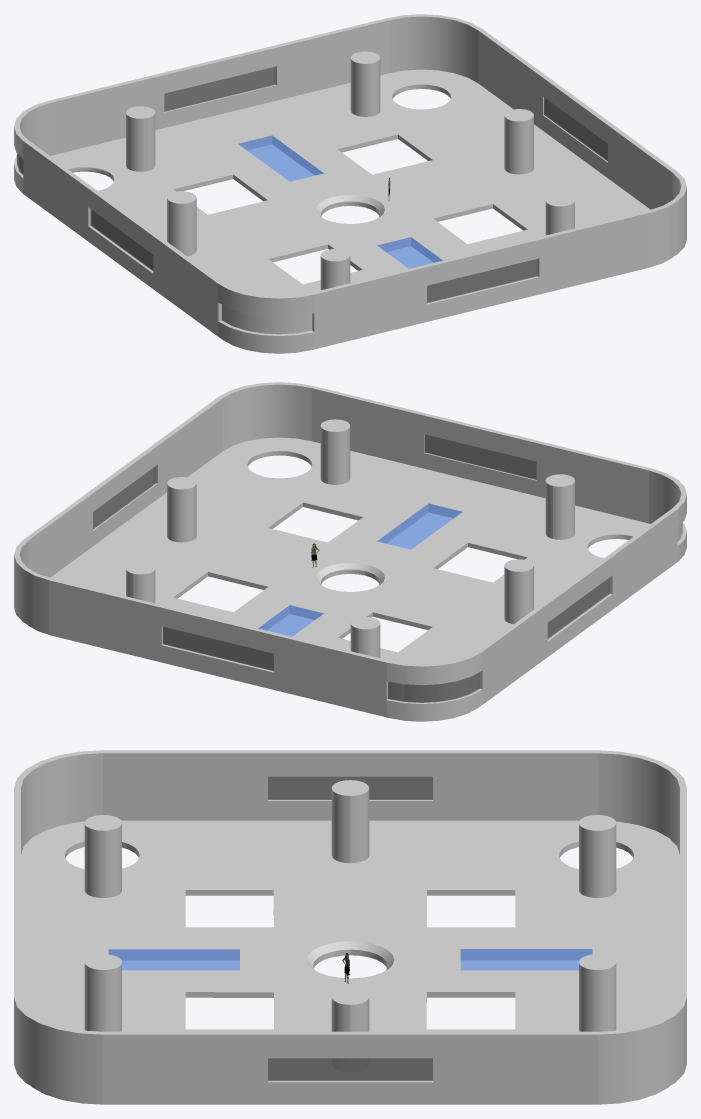
The model's file is buiding level 2.dae.
3 views of the same model, one above another, from view 1: azimuth 30°, elevation 25°; view 2: azimuth 150°, elevation 25°; view 3: azimuth 270°, elevation 25° (orthographic). The views are drawn at different scales.
Visible parts, largest first — view 1: SketchUp (×22); view 2: SketchUp (×24); view 3: SketchUp (×20).
Part boxes in pixels (x1,y1,x2,y2): SketchUp (×22): [14, 14, 686, 353]; SketchUp (×24): [14, 382, 686, 721]; SketchUp (×20): [14, 750, 686, 1104].
Size of the model in its own units: 1291 by 1291 by 166.
